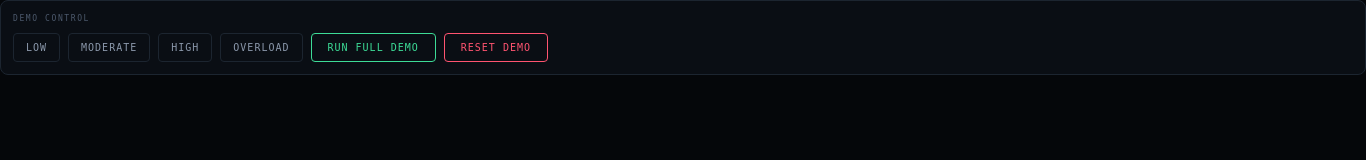
a mid-demo failure surfaces the error and re-enables the controls
Click the button "run full demo" at (373, 48), box top-left (310, 33), bottom-right (436, 62)
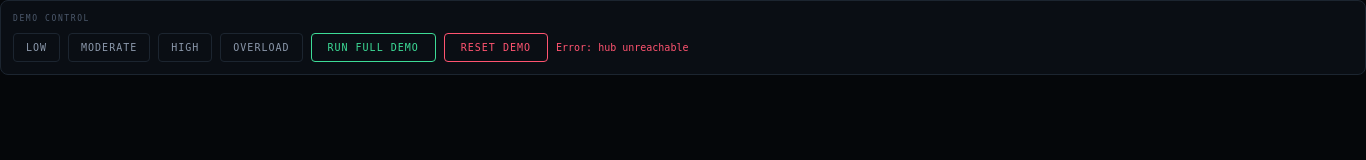
Expected: the text "Error: hub unreachable" is shown, top-left (556, 40), bottom-right (688, 55)
